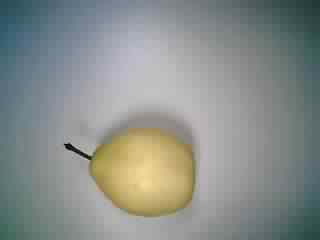pear: (51, 122, 211, 226)
